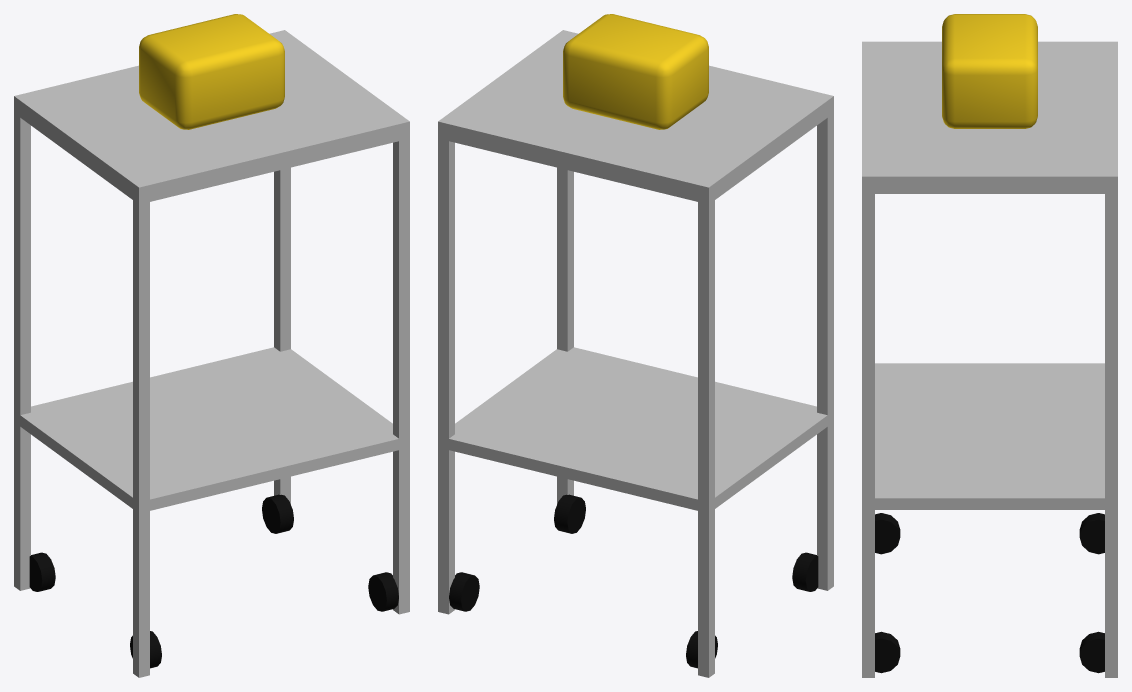
The model's file is hospital.ward.blood_trolley.glb.
3 views of the same model, side by side, from view 1: azimuth 30°, elevation 25°; view 2: azimuth 150°, elevation 25°; view 3: azimuth 270°, elevation 25° (orthographic). The views are drawn at different scales.
Parts seen in each view (by area): view 1: main__steel_stainless, main__plastic_yellow, main__rubber; view 2: main__steel_stainless, main__plastic_yellow, main__rubber; view 3: main__steel_stainless, main__plastic_yellow, main__rubber.
Part boxes in pixels (bbox=[...]): main__steel_stainless: bbox=[14, 30, 409, 677]; main__plastic_yellow: bbox=[139, 14, 284, 129]; main__rubber: bbox=[29, 494, 398, 668]; main__steel_stainless: bbox=[438, 30, 833, 677]; main__plastic_yellow: bbox=[563, 14, 708, 129]; main__rubber: bbox=[449, 494, 818, 668]; main__steel_stainless: bbox=[862, 41, 1117, 677]; main__plastic_yellow: bbox=[942, 14, 1037, 128]; main__rubber: bbox=[875, 513, 1104, 673].
Bounding box in the file's own units: 0.5 × 0.99 × 0.4.
